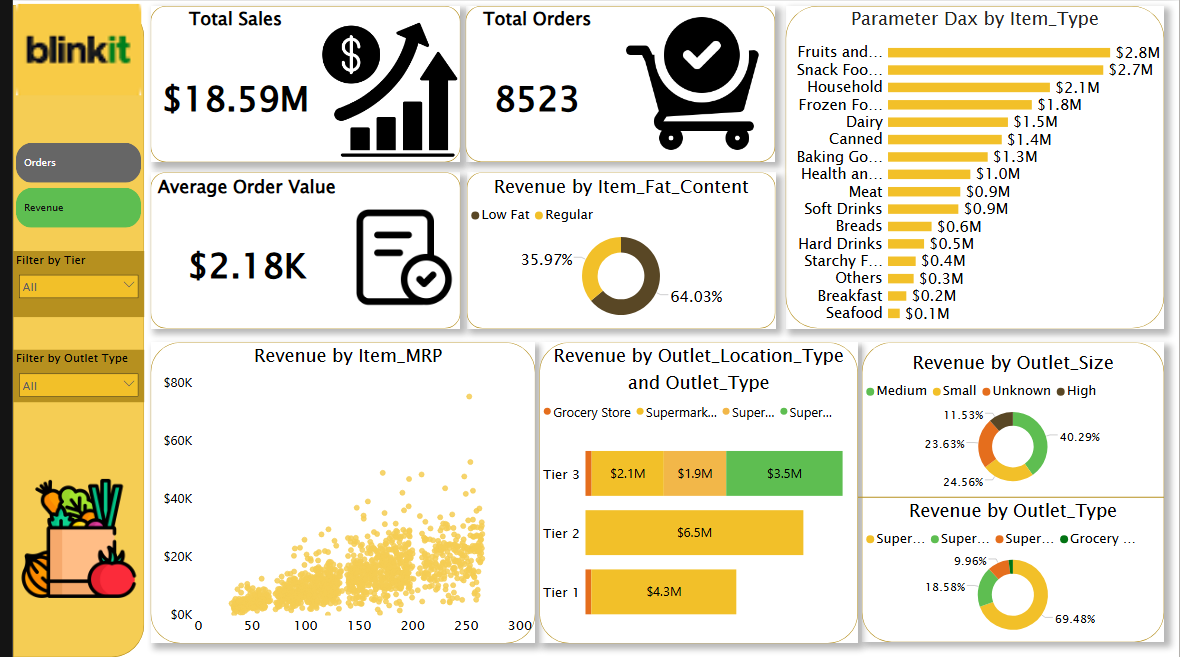

Layout of this report page (visuals, bound fields, positions):
{"tool":"powerbi","page":{"name":"Dashboard 2","canvas":[1920,1080],"ordinal":3},"visuals":[{"type":"shape","box":[0,6.2,216.1,1074.4],"z":0},{"type":"shape","box":[226.5,8.2,510.5,257.3],"z":1000},{"type":"shape","box":[226.5,282.2,510.5,257.3],"z":2000},{"type":"shape","box":[1272,8.2,623.7,531],"z":3000},{"type":"shape","box":[745.4,8.4,510,257],"z":4000},{"type":"shape","box":[746.2,282.2,508.4,257.3],"z":5000},{"type":"shape","box":[226.4,561.9,634,496.1],"z":6000},{"type":"shape","box":[866.6,561.9,524.9,496.1],"z":7000},{"type":"shape","box":[1397.6,561.9,498.1,494],"z":8000},{"type":"card","title":"Total Sales","fields":{"Values":["Measures (2).Total Sales"]},"box":[226.4,8.2,279.9,257.3],"z":9000},{"type":"card","title":"Total Orders","fields":{"Values":["Measures (2).Total Orders"]},"box":[745.1,8.2,236.7,257.3],"z":10000},{"type":"card","title":"Average Order Value","fields":{"Values":["Measures (2).Average Order Value (AOV)"]},"box":[226.4,284,317,255.2],"z":11000},{"type":"donutChart","title":"Revenue by Item_Fat_Content","fields":{"Category":["Items.Item_Fat_Content"],"Y":["Measures (2).Parameter Dax"]},"box":[747.2,284,508.4,255.2],"z":12000},{"type":"barChart","fields":{"Category":["Items.Item_Type"],"Y":["Measures (2).Parameter Dax"]},"box":[1272,8.2,623.7,531],"z":13000},{"type":"barChart","title":"Revenue by Outlet_Location_Type and Outlet_Type","fields":{"Category":["Outlet.Outlet_Location_Type"],"Y":["Measures (2).Parameter Dax"],"Series":["Outlet.Outlet_Type"]},"box":[866.6,561.9,524.9,496.1],"z":14000},{"type":"scatterChart","title":"Revenue by Item_MRP","fields":{"Y":["Measures (2).Parameter Dax"],"X":["Items.Item_MRP"]},"box":[242.9,561.9,617.5,496.1],"z":15000},{"type":"donutChart","title":"Revenue by Outlet_Size","fields":{"Category":["Outlet.Outlet_Size"],"Y":["Measures (2).Parameter Dax"]},"box":[1397.6,574.3,498.1,236.7],"z":16000},{"type":"shape","box":[1391.4,794.5,504.3,45.3],"z":17000},{"type":"donutChart","title":"Revenue by Outlet_Type","fields":{"Category":["Outlet.Outlet_Type"],"Y":["Measures (2).Parameter Dax"]},"box":[1397.6,817.2,498.1,238.8],"z":18000},{"type":"advancedSlicerVisual","fields":{"Values":["Parameter.Parameter"]},"box":[0,228.5,216.1,150.3],"z":19000},{"type":"slicer","title":"Filter by Tier","fields":{"Values":["Outlet.Outlet_Location_Type"]},"box":[0,411.7,216.1,109.1],"z":20000},{"type":"slicer","title":"Filter by Outlet Type","fields":{"Values":["Outlet.Outlet_Type"]},"box":[0,574.3,216.1,86.4],"z":21000},{"type":"image","box":[0,0,216.1,160.5],"z":22000},{"type":"image","box":[504.3,26.8,232.6,238.8],"z":23000},{"type":"image","box":[981.8,6.2,273.8,259.3],"z":24000},{"type":"image","box":[551.6,304.6,185.2,234.6],"z":25000},{"type":"image","box":[0,782.2,216.1,205.8],"z":26000}]}

Visuals, with their boxes in screenshot pixels (x1, y1, x2, y2), scaled from the page's 1920x1080 canvas onto the 1180x657 screenshot:
shape: region(0, 4, 133, 656)
shape: region(139, 5, 453, 162)
shape: region(139, 172, 453, 328)
shape: region(782, 5, 1165, 328)
shape: region(458, 5, 772, 161)
shape: region(459, 172, 771, 328)
shape: region(139, 342, 529, 644)
shape: region(533, 342, 855, 644)
shape: region(859, 342, 1165, 642)
"Total Sales" card: region(139, 5, 311, 162)
"Total Orders" card: region(458, 5, 603, 162)
"Average Order Value" card: region(139, 173, 334, 328)
"Revenue by Item_Fat_Content" donutChart: region(459, 173, 772, 328)
barChart - Items.Item_Type x Measures (2).Parameter Dax: region(782, 5, 1165, 328)
"Revenue by Outlet_Location_Type and Outlet_Type" barChart: region(533, 342, 855, 644)
"Revenue by Item_MRP" scatterChart: region(149, 342, 529, 644)
"Revenue by Outlet_Size" donutChart: region(859, 349, 1165, 493)
shape: region(855, 483, 1165, 511)
"Revenue by Outlet_Type" donutChart: region(859, 497, 1165, 642)
advancedSlicerVisual - Parameter.Parameter: region(0, 139, 133, 230)
"Filter by Tier" slicer: region(0, 250, 133, 317)
"Filter by Outlet Type" slicer: region(0, 349, 133, 402)
image: region(0, 0, 133, 98)
image: region(310, 16, 453, 162)
image: region(603, 4, 772, 162)
image: region(339, 185, 453, 328)
image: region(0, 476, 133, 601)
